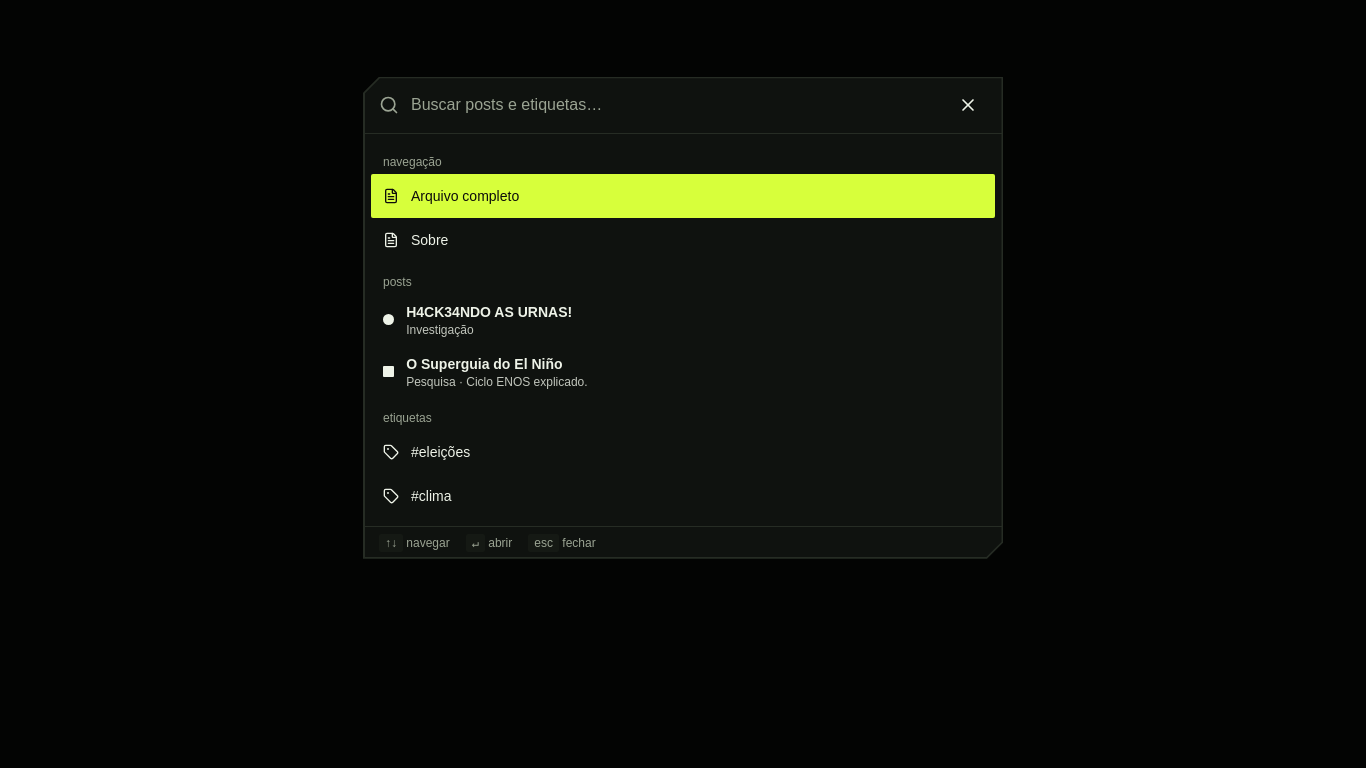
Test: <SearchDialog /> › diz quando não acha nada
Type "zzz" into the dropdown at (674, 105), box [407,77,940,133]
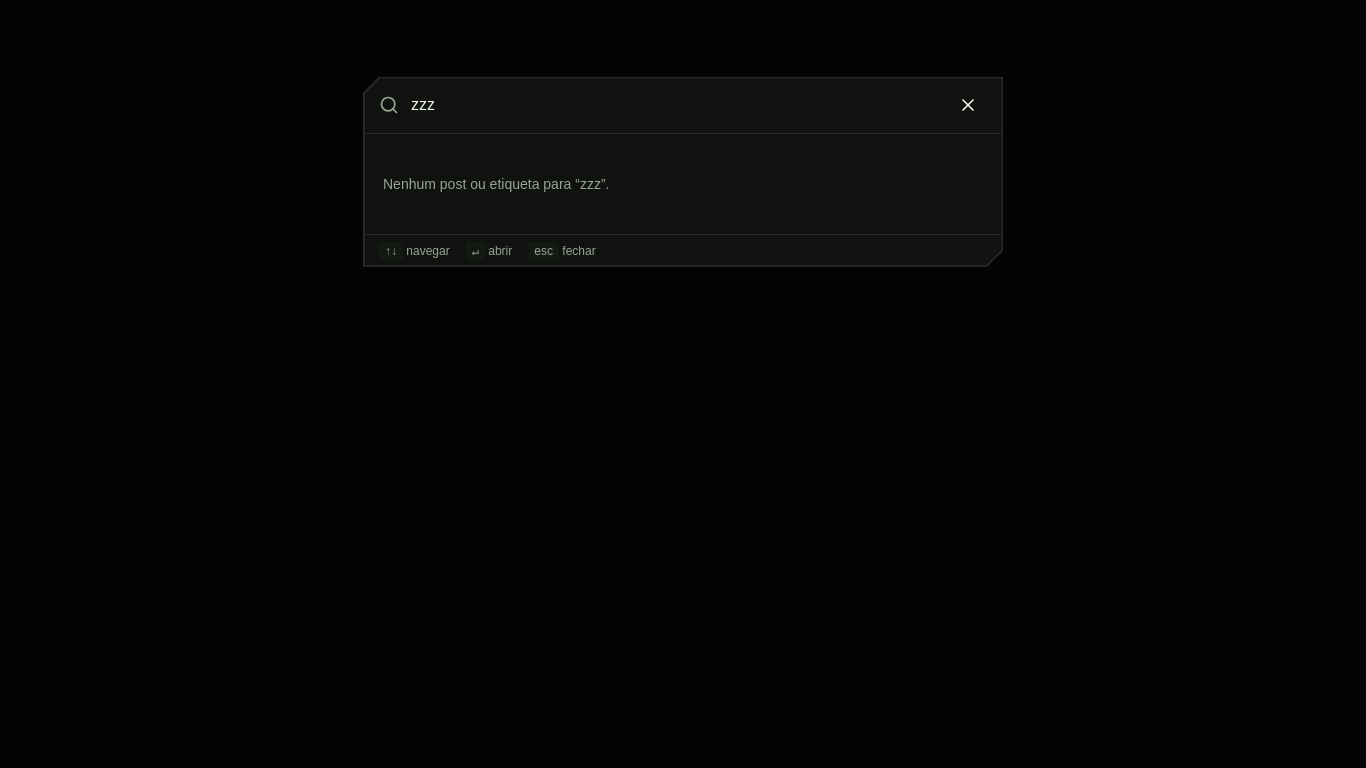
Check: the text "Nenhum post ou etiqueta para “zzz”." is shown, box [383,176,610,192]
